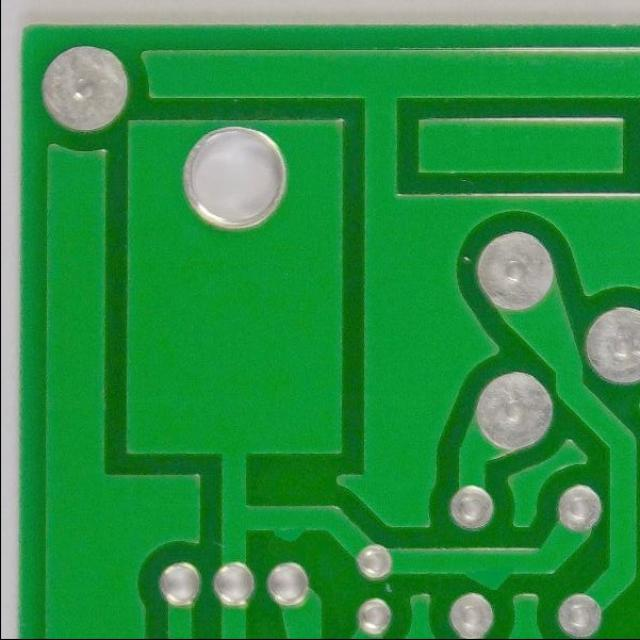spur: (458, 552, 517, 593), (264, 518, 310, 550)
